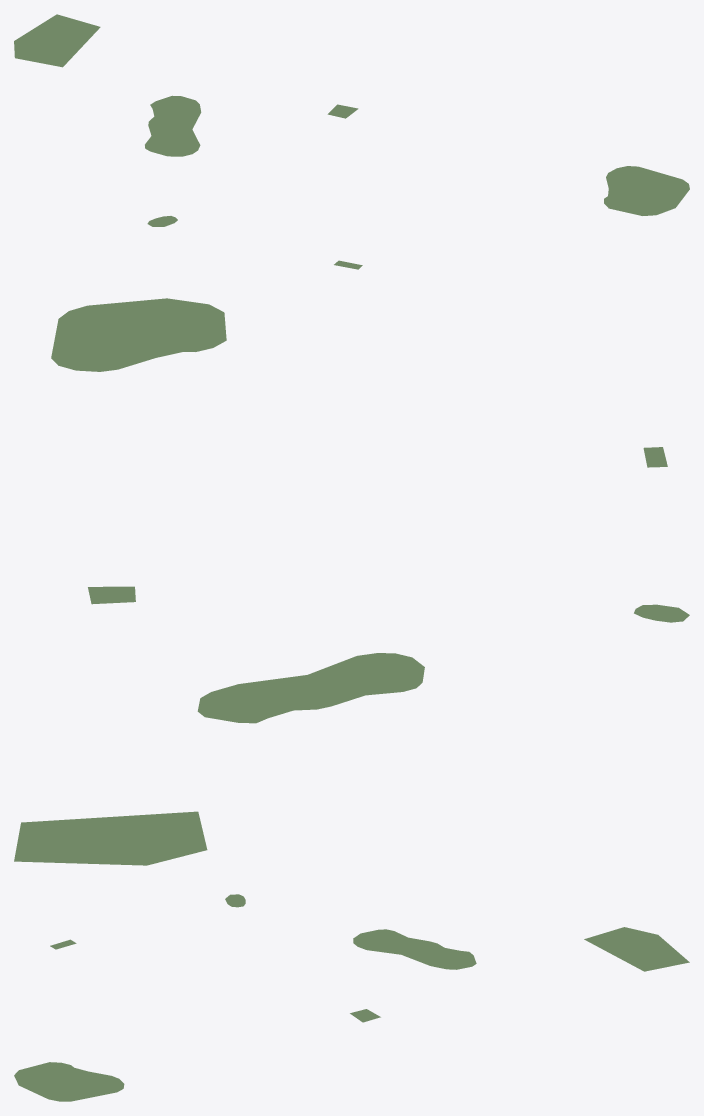
The model's file is c_1645_17820_parks.glb.
3 renders of one model, top to bottom at view 1: azimuth 30°, elevation 25°; view 2: azimuth 150°, elevation 25°; view 3: azimuth 270°, elevation 25°, orthographic. The views are drawn at different scales.
Visible parts, largest first — view 1: geometry_0; view 2: geometry_0; view 3: geometry_0.
Boxes of the visible parts, x1,y1,x2,y2 form: geometry_0: [14, 14, 689, 269]; geometry_0: [14, 298, 689, 865]; geometry_0: [14, 894, 689, 1101].
Size of the model in its own units: 134 by 0 by 185.
